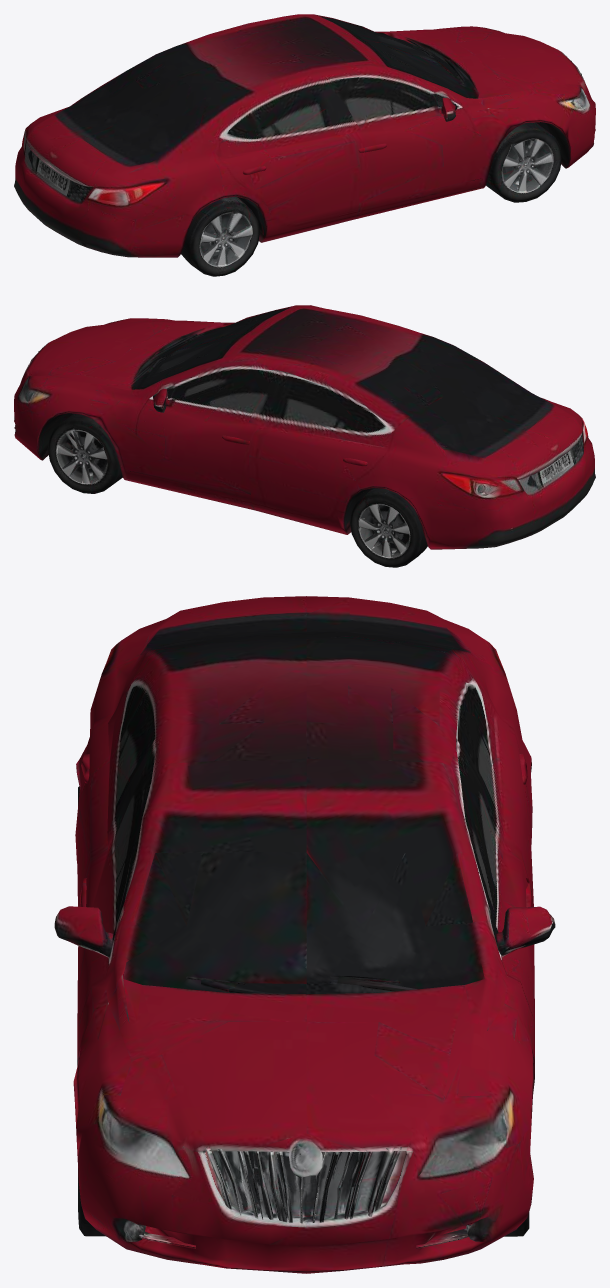
File: berline.glb
3 views of the same model, one above another, from view 1: azimuth 30°, elevation 25°; view 2: azimuth 150°, elevation 25°; view 3: azimuth 270°, elevation 25° (orthographic). The views are drawn at different scales.
Visible parts, largest first — view 1: rue_berline; view 2: rue_berline; view 3: rue_berline.
Boxes of the visible parts, left/top/right/bottom form: rue_berline: left=14, top=14, right=595, bottom=276; rue_berline: left=14, top=305, right=595, bottom=567; rue_berline: left=54, top=596, right=555, bottom=1273.
Bounding box in the file's own units: 4.75 × 1.38 × 1.93.
Materials: 1 (1 with a texture image).
